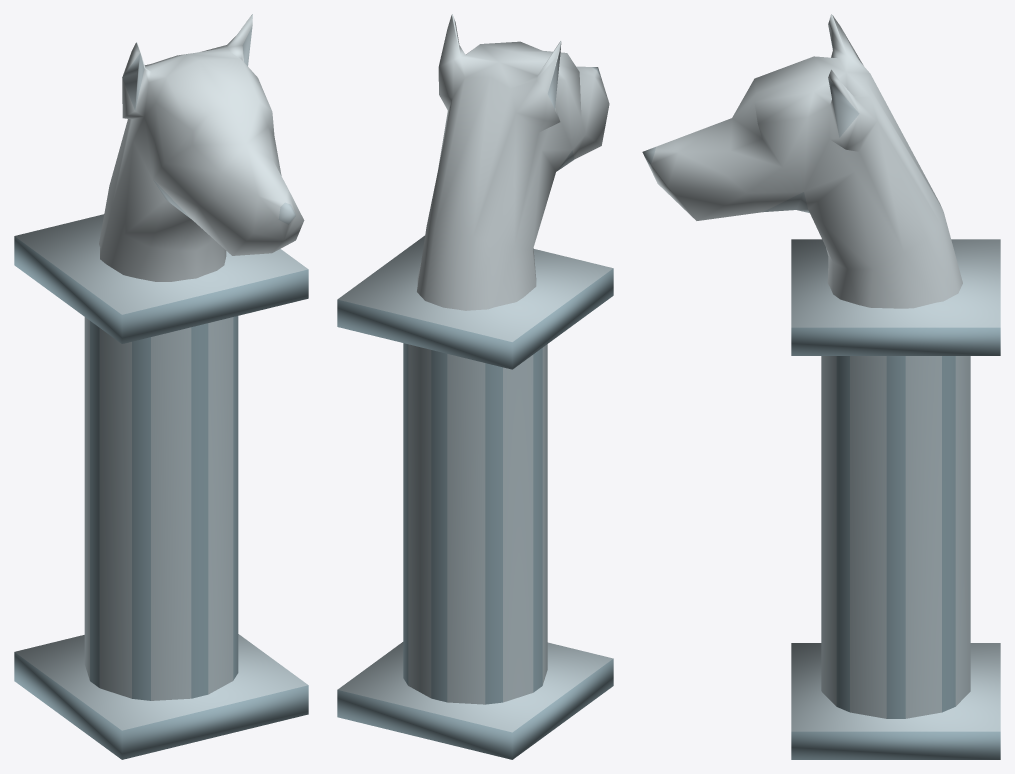
The model's file is FBX_Statue_B.fbx.
3 renders of one model, left to right at view 1: azimuth 30°, elevation 25°; view 2: azimuth 150°, elevation 25°; view 3: azimuth 270°, elevation 25°, orthographic. The views are drawn at different scales.
Visible parts, largest first — view 1: Statue_B; view 2: Statue_B; view 3: Statue_B.
Boxes of the visible parts, box(x1,y1,x2,y2) form: Statue_B: box(14, 14, 308, 759); Statue_B: box(337, 14, 613, 759); Statue_B: box(642, 14, 1000, 759).
Size of the model in its own units: 78.04 by 134 by 277.
